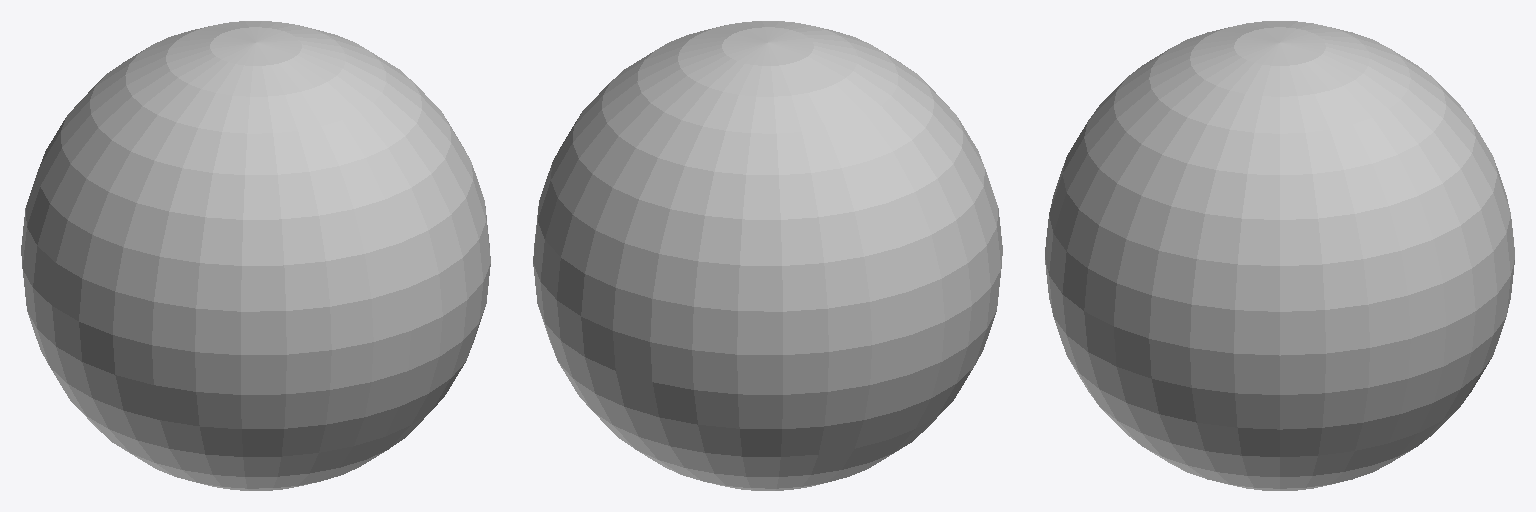
File: enemy.obj
3 views of the same model, side by side, from view 1: azimuth 30°, elevation 25°; view 2: azimuth 150°, elevation 25°; view 3: azimuth 270°, elevation 25° (orthographic).
Visible parts, largest first — view 1: 球; view 2: 球; view 3: 球.
Boxes of the visible parts, x1,y1,x2,y2 form: 球: [21, 21, 490, 490]; 球: [533, 21, 1002, 490]; 球: [1045, 21, 1514, 490].
Size of the model in its own units: 0.4 by 0.4 by 0.4.